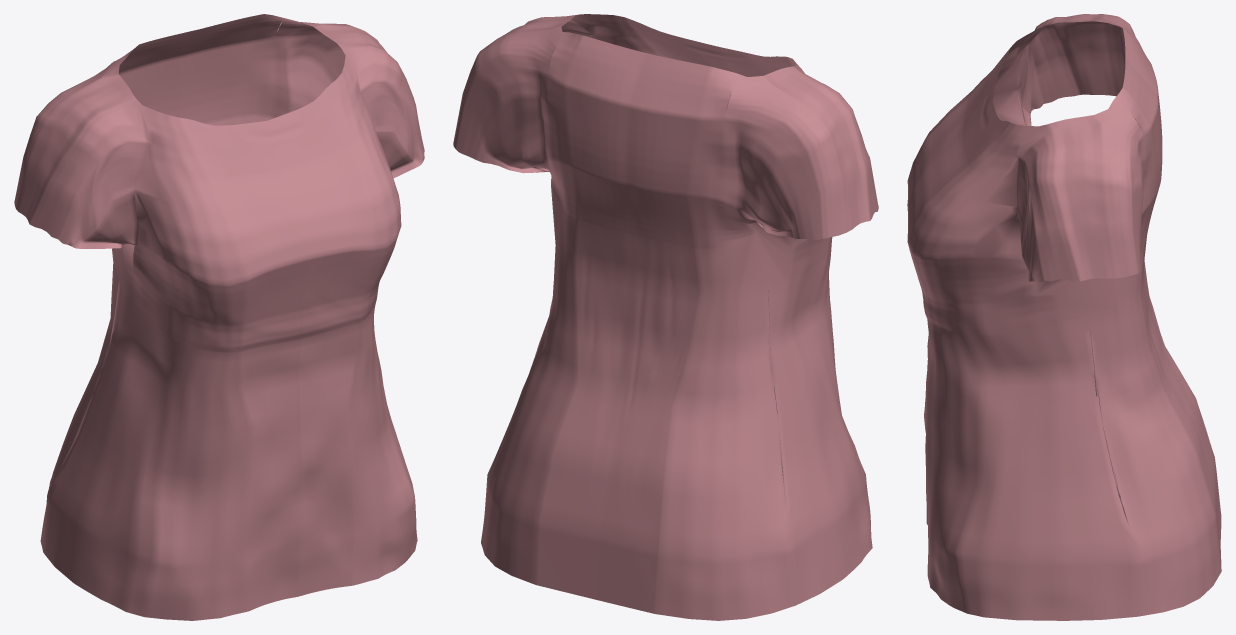
File: tshirt.glb
3 renders of one model, left to right at view 1: azimuth 30°, elevation 25°; view 2: azimuth 150°, elevation 25°; view 3: azimuth 270°, elevation 25°, orthographic. The views are drawn at different scales.
Visible parts, largest first — view 1: Circle; view 2: Circle; view 3: Circle.
Part boxes in pixels (left/top/right/bottom): Circle: left=14, top=14, right=424, bottom=620; Circle: left=453, top=14, right=878, bottom=620; Circle: left=907, top=14, right=1221, bottom=620.
Bounding box in the file's own units: 2.04 × 2.51 × 1.45.
